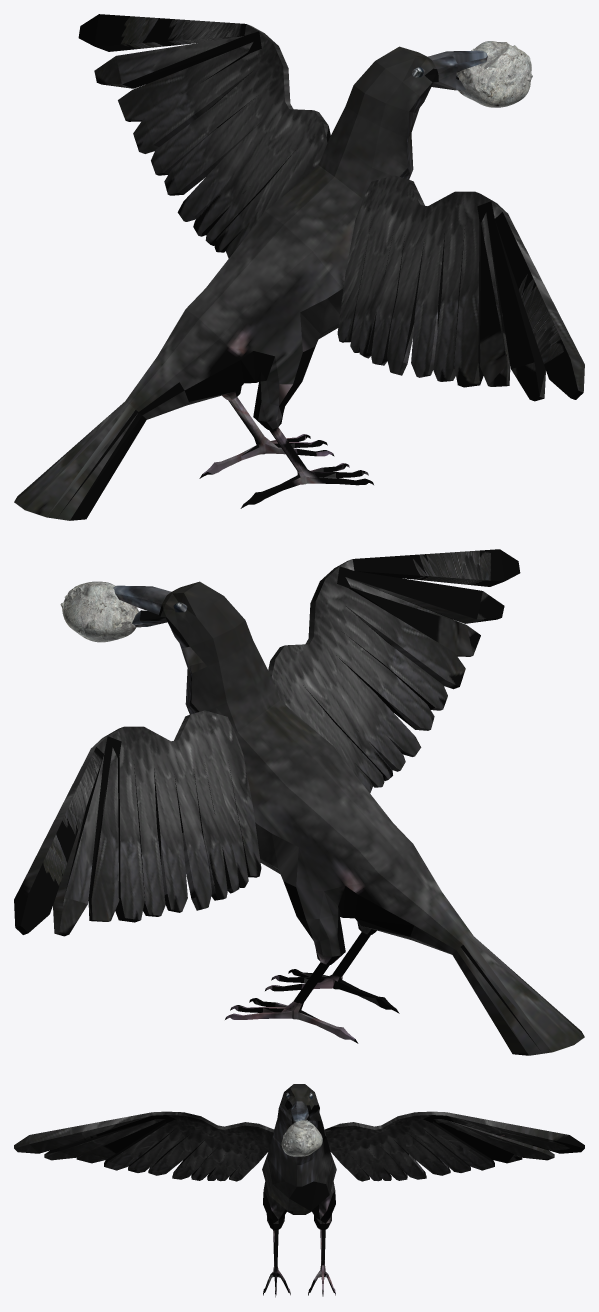
Rendered from crowTextureAnimPebble_000000.obj.
The picture shows the model from 3 angles, top to bottom: view 1: azimuth 30°, elevation 25°; view 2: azimuth 150°, elevation 25°; view 3: azimuth 270°, elevation 25°; orthographic projection. The views are drawn at different scales.
Parts seen in each view (by area): view 1: Cylinder.001, Cylinder.003, Cylinder.002, Icosphere_Icosphere.002; view 2: Cylinder.001, Cylinder.002, Cylinder.003, Icosphere_Icosphere.002; view 3: Cylinder.002, Cylinder.003, Cylinder.001, Icosphere_Icosphere.002.
Part boxes in pixels (x1,y1,x2,y2): Cylinder.001: (14, 46, 487, 520); Cylinder.003: (337, 175, 584, 401); Cylinder.002: (78, 14, 330, 258); Icosphere_Icosphere.002: (456, 41, 532, 107); Cylinder.001: (113, 581, 584, 1055); Cylinder.002: (14, 710, 261, 936); Cylinder.003: (268, 549, 520, 793); Icosphere_Icosphere.002: (60, 581, 139, 642); Cylinder.002: (324, 1111, 584, 1181); Cylinder.003: (14, 1111, 274, 1181); Cylinder.001: (262, 1084, 336, 1297); Icosphere_Icosphere.002: (281, 1120, 322, 1156).
Bounding box in the file's own units: 5.55 × 4.1 × 9.34.
